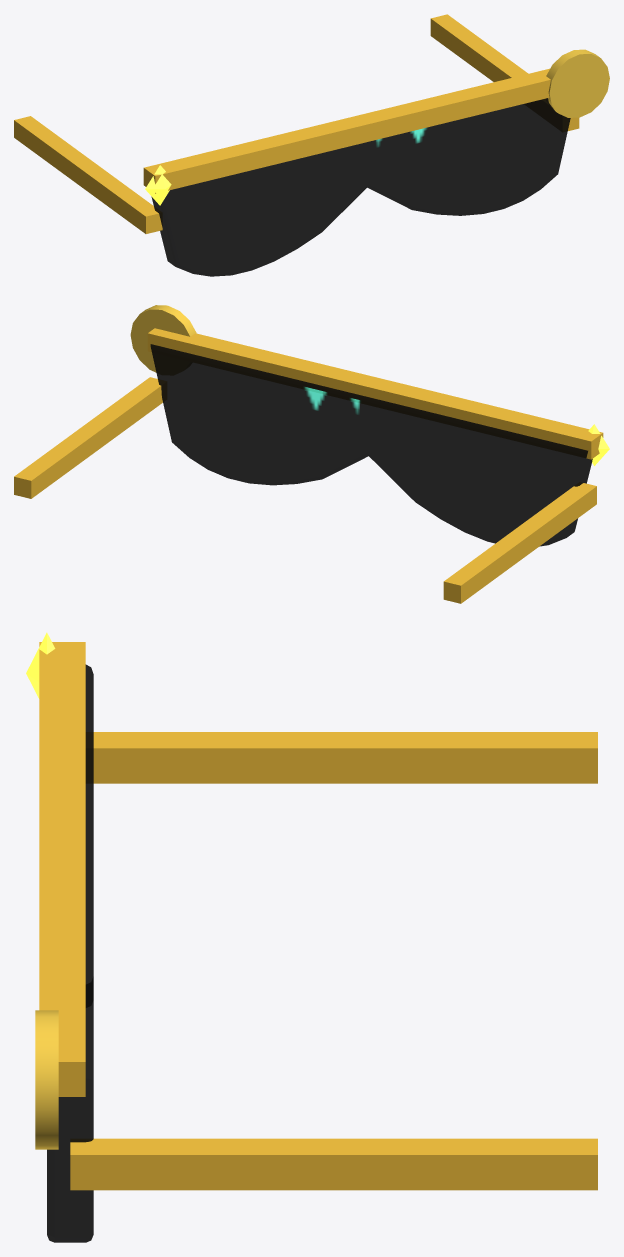
File: gl_eqtz4.glb
3 views of the same model, one above another, from view 1: azimuth 30°, elevation 25°; view 2: azimuth 150°, elevation 25°; view 3: azimuth 270°, elevation 25° (orthographic). The views are drawn at different scales.
Size of the model in its own units: 2.12 by 0.616 by 1.13.
4 materials, 1 textured.
